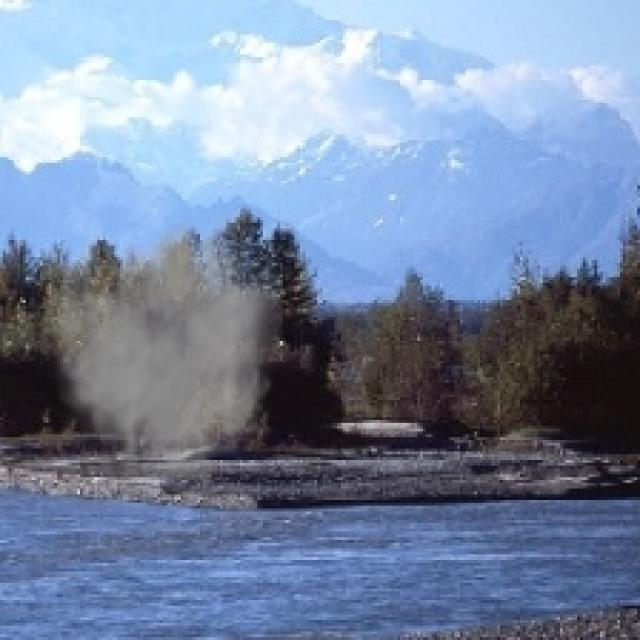Smoke: (34, 217, 283, 500)
